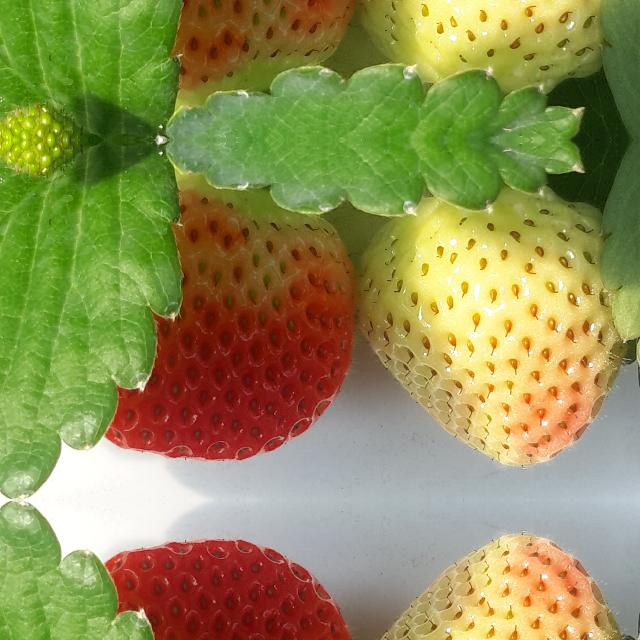Health_100: (74, 182, 362, 462), (74, 538, 362, 640), (74, 0, 362, 98)
Health_50: (357, 186, 627, 464), (357, 535, 627, 640), (357, 0, 627, 94)
